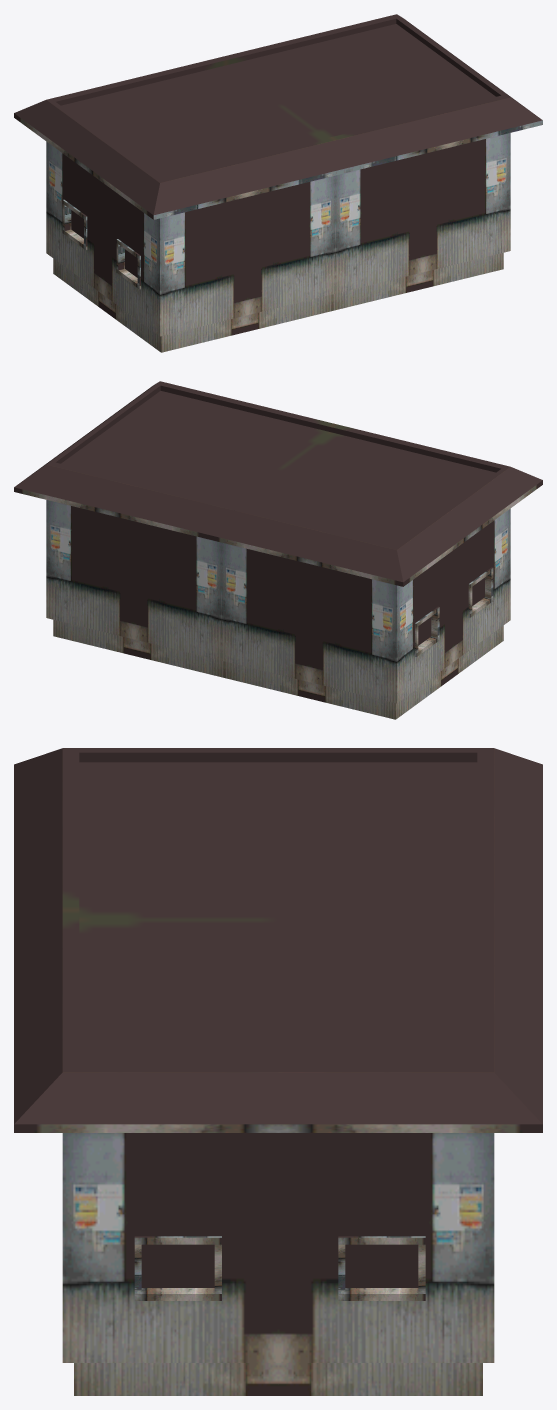
Rendered from cobertizo.glb.
The picture shows the model from 3 angles, top to bottom: view 1: azimuth 30°, elevation 25°; view 2: azimuth 150°, elevation 25°; view 3: azimuth 270°, elevation 25°; orthographic projection. The views are drawn at different scales.
Visible parts, largest first — view 1: Building_4; view 2: Building_4; view 3: Building_4.
Part boxes in pixels (x1,y1,x2,y2): Building_4: (14,14,542,352); Building_4: (14,381,542,719); Building_4: (14,748,542,1395).
Size of the model in its own units: 6.6 by 2.8 by 4.1.
1 material, 1 textured.
